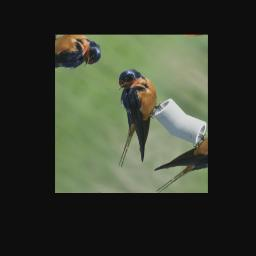Swallow: (74, 63, 185, 176)
